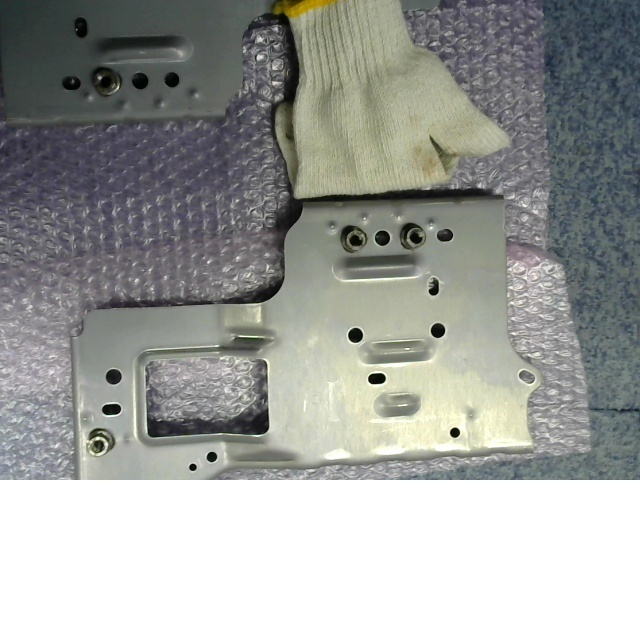dog: (91, 66, 123, 97), (86, 427, 115, 456), (340, 225, 368, 253), (399, 222, 427, 250)
